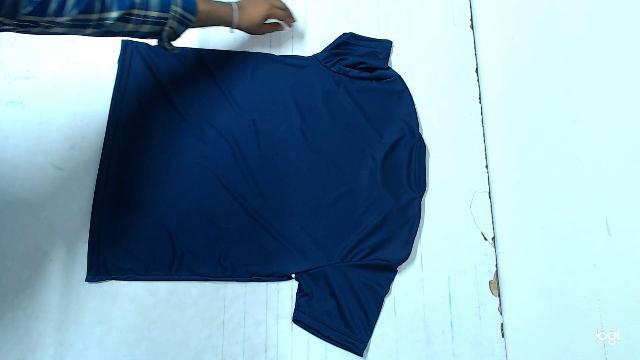new-garment: (86, 33, 426, 355)
